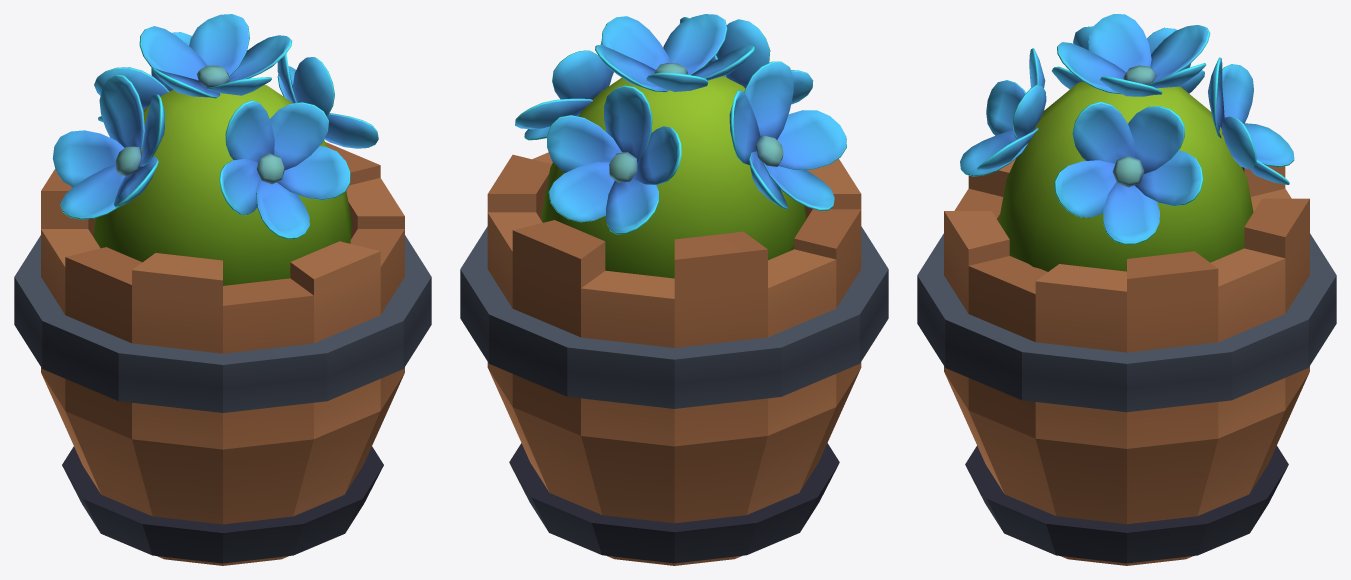
Rendered from mt_prop_plant06.fbx.
3 renders of one model, left to right at view 1: azimuth 30°, elevation 25°; view 2: azimuth 150°, elevation 25°; view 3: azimuth 270°, elevation 25°, orthographic. The views are drawn at different scales.
Parts seen in each view (by area): view 1: prop_plant06; view 2: prop_plant06; view 3: prop_plant06.
Boxes of the visible parts, x1,y1,x2,y2 form: prop_plant06: [14, 14, 431, 565]; prop_plant06: [460, 14, 888, 565]; prop_plant06: [917, 14, 1336, 565].
Size of the model in its own units: 89.65 by 111 by 89.65.
